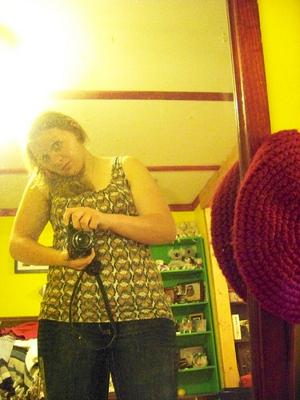person: (11, 112, 181, 400)
